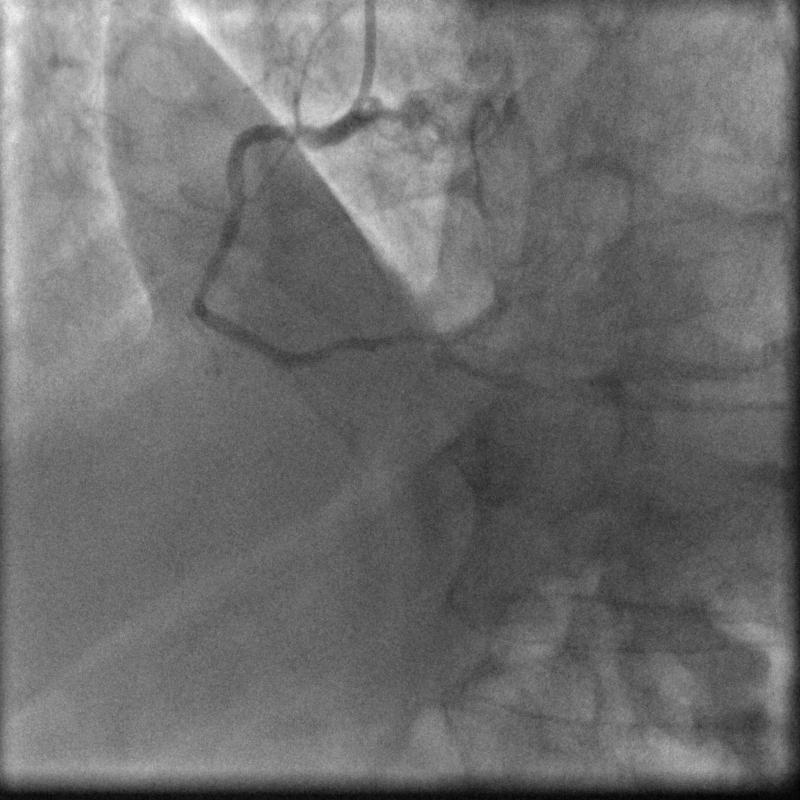Stenosis: (192, 277, 209, 301)
